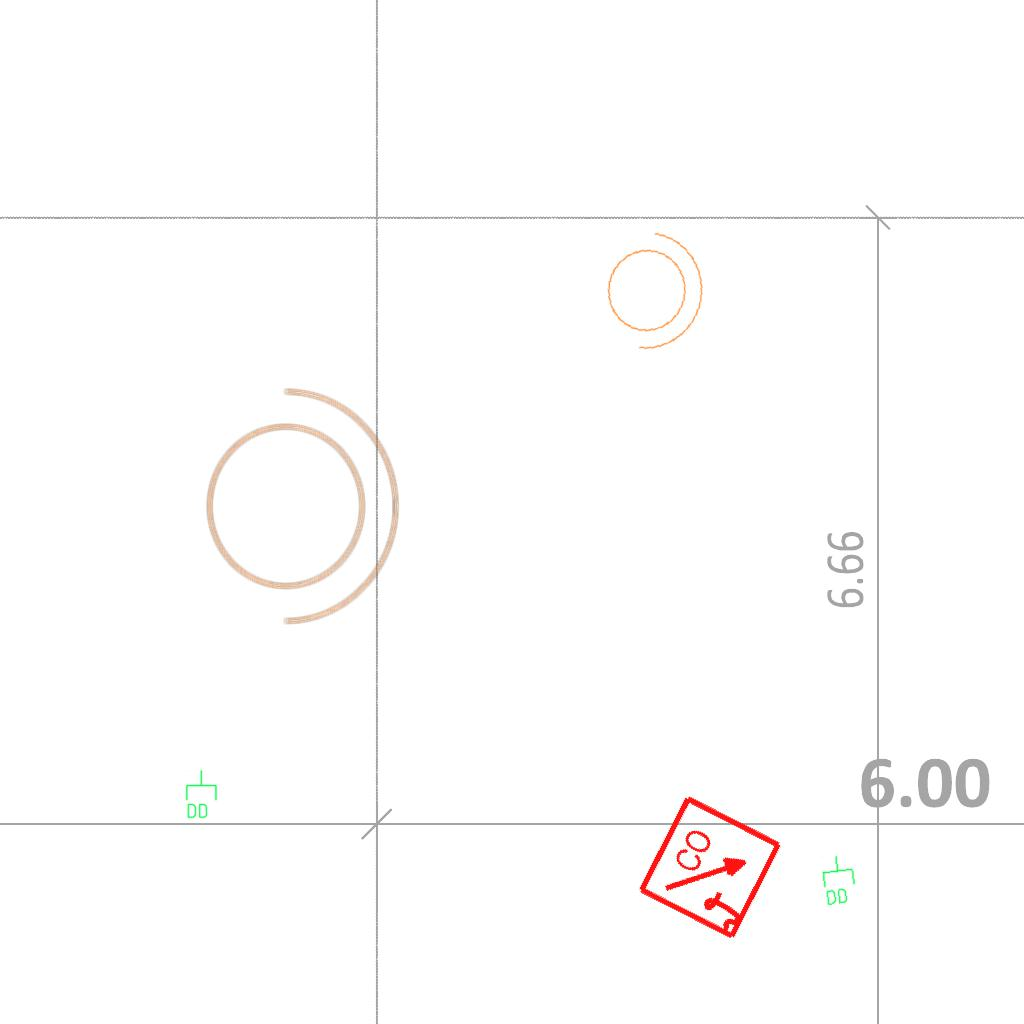Datenanschluss_zweifach: (818, 852, 859, 908), (184, 769, 218, 820)
ROA_Rauchmelder_optisch_mit_Signalgeber_(Sockelsirene): (635, 791, 788, 944)
Scheinwerfer_fuer_Alarmbeleuchtung: (183, 368, 408, 632), (587, 214, 717, 362)
